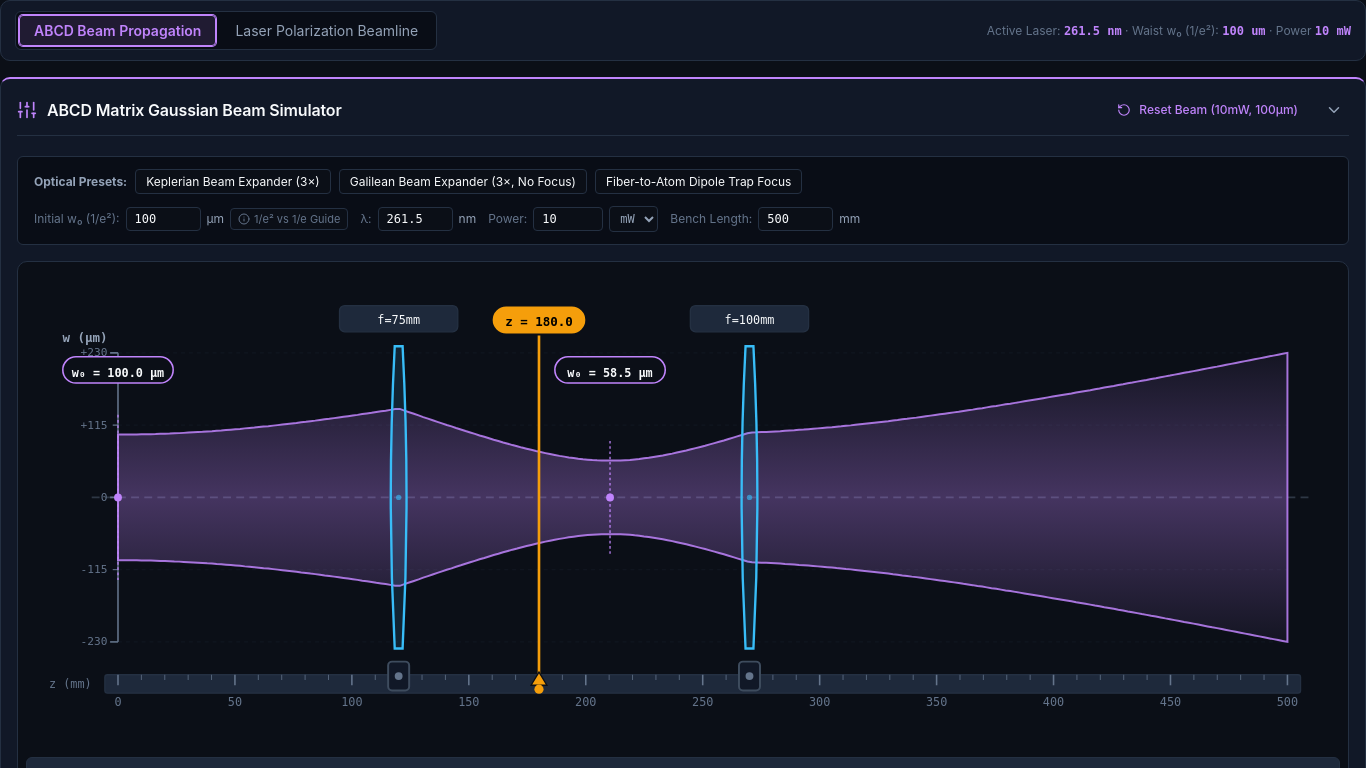
Scenario: LaserBeamConverter AlCl Defaults and Scaling › clarifies 1/e² vs 1/e waist convention and toggles live equivalent spot sizes guide
This screenshot has width=1366, height=768.
Expected: the text "Initial w₀ (1/e²):" is shown, [34, 210, 120, 228]
Expected: the text "Waist w₀ (1/e²):" is shown, [1122, 22, 1222, 38]
Open convention guide
Click the button "1/e² vs 1/e Guide" at (289, 219), box [230, 208, 348, 230]
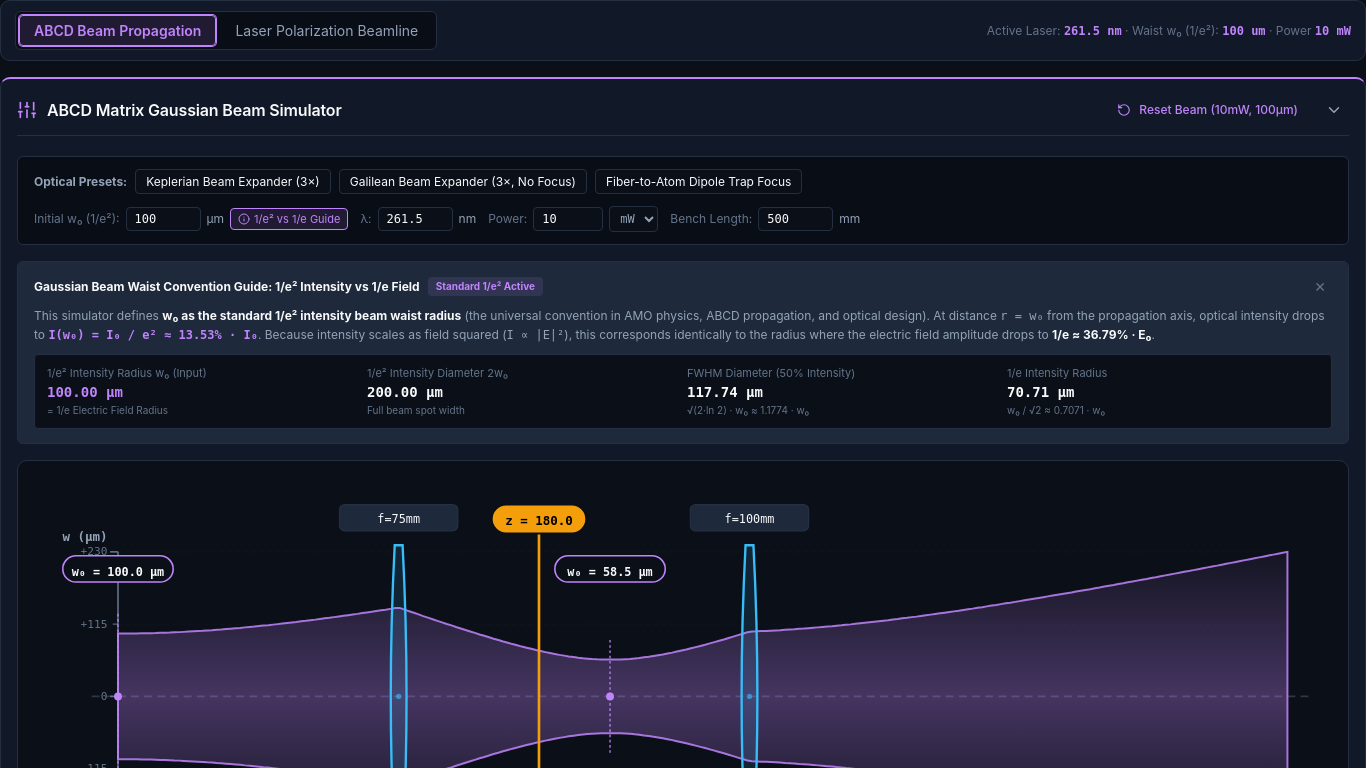
Expected: the text "Gaussian Beam Waist Convention Guide: 1/e² Intensity vs 1/e Field" is shown, [34, 278, 420, 296]
Expected: the text "1/e² Intensity Radius w₀ (Input)" is shown, [47, 366, 207, 380]
Expected: the text "1/e² Intensity Diameter 2w₀" is shown, [367, 366, 508, 380]
Close convention guide
Click the button named "Close waist convention guide" at (1320, 286), box [1308, 276, 1332, 297]
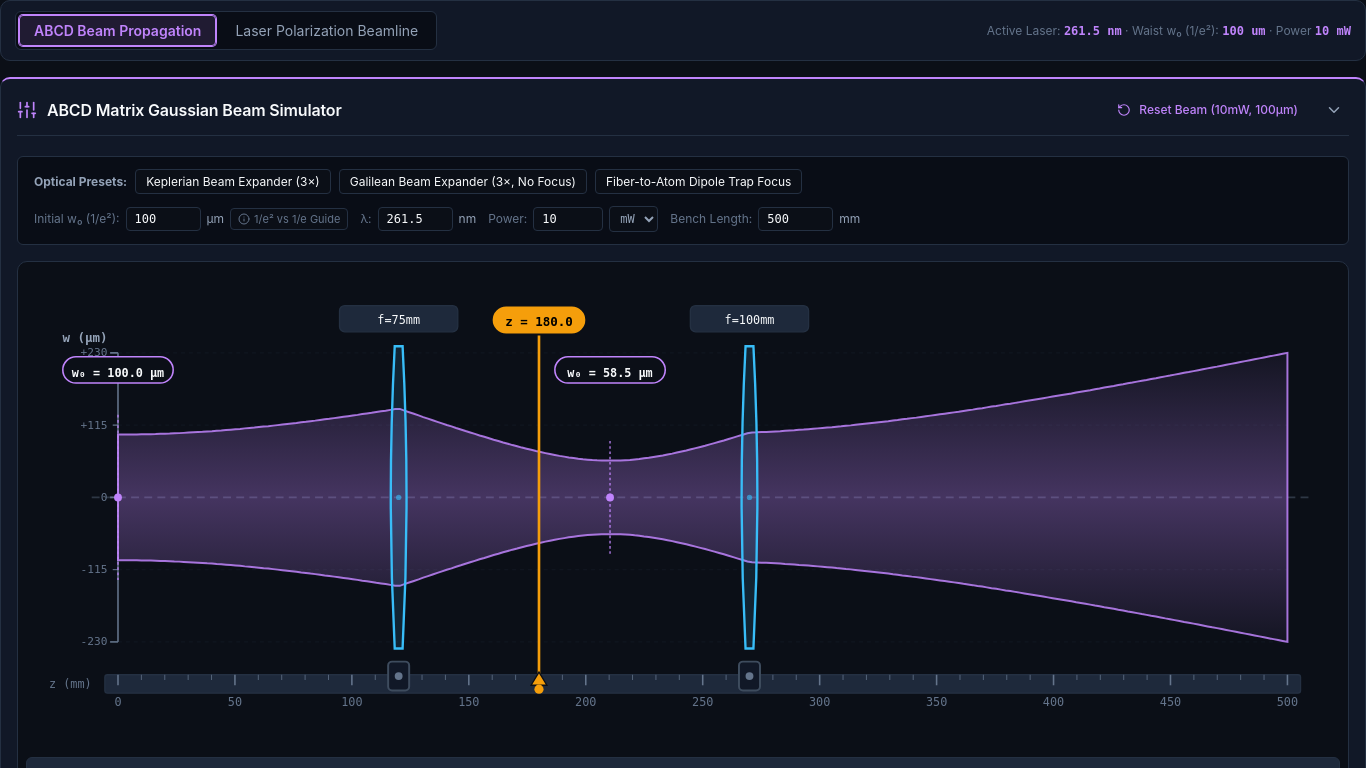
Expected: the text "Gaussian Beam Waist Convention Guide" is gone
